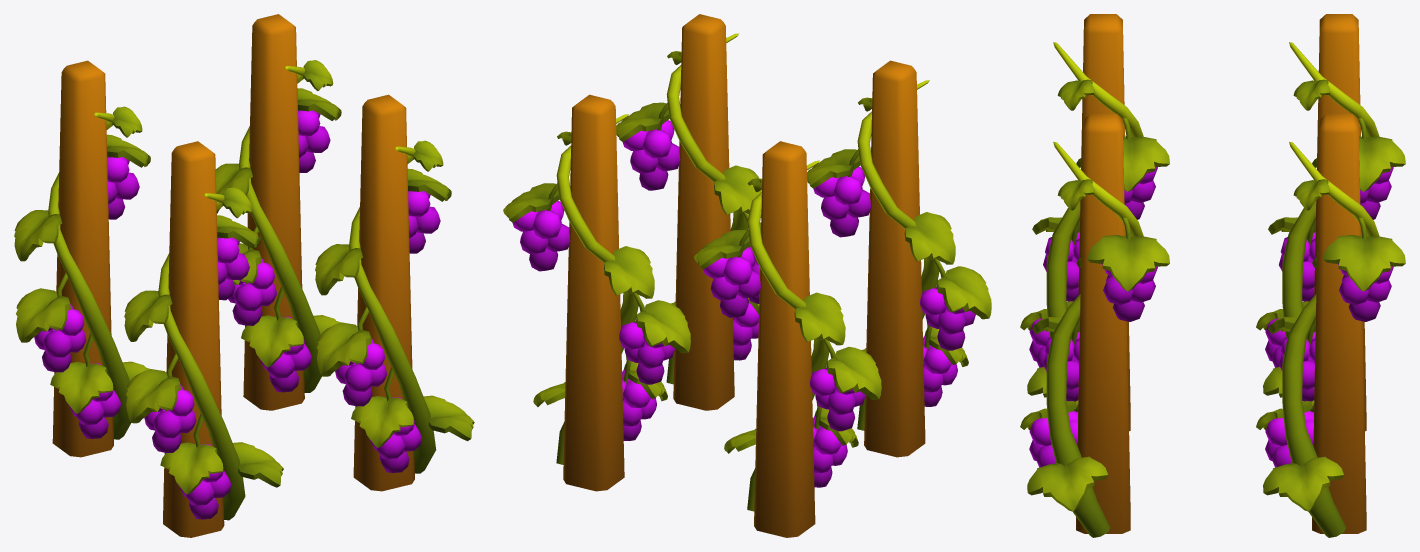
Rendered from Farm_Crop_Grape_Step_03.fbx.
The picture shows the model from 3 angles, left to right: view 1: azimuth 30°, elevation 25°; view 2: azimuth 150°, elevation 25°; view 3: azimuth 270°, elevation 25°; orthographic projection. The views are drawn at different scales.
Visible parts, largest first — view 1: Farm_Crop_Grape_Step_03; view 2: Farm_Crop_Grape_Step_03; view 3: Farm_Crop_Grape_Step_03.
Part boxes in pixels (x1,y1,x2,y2): Farm_Crop_Grape_Step_03: (14, 14, 474, 537); Farm_Crop_Grape_Step_03: (503, 14, 991, 537); Farm_Crop_Grape_Step_03: (1020, 14, 1405, 537).
Size of the model in its own units: 182 by 189 by 164.
